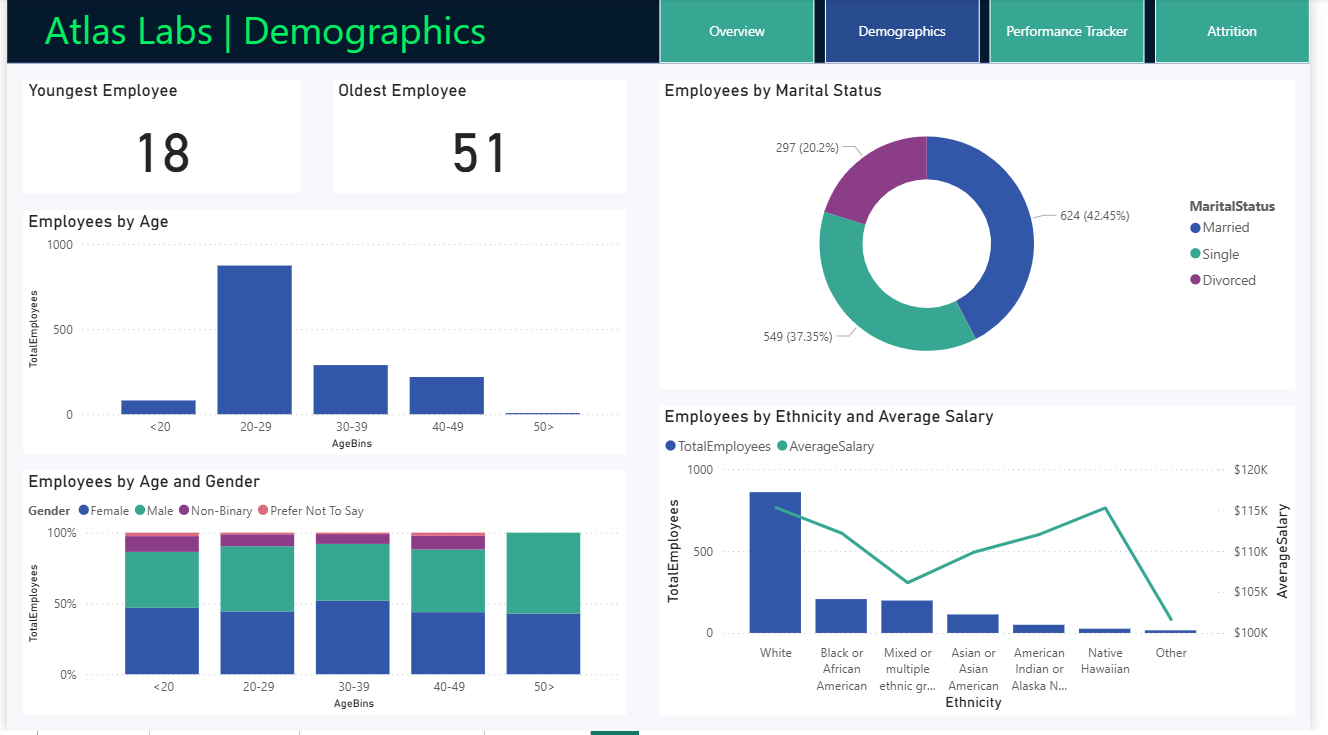

This screenshot's page, from the dashboard's own definition file:
{"tool":"powerbi","page":{"name":"Demographics","canvas":[1280,720],"ordinal":1},"visuals":[{"type":"card","title":"Youngest Employee","fields":{"Values":["Min(DimEmployee.Age)"]},"box":[16,80,272,112],"z":0},{"type":"card","title":"Oldest Employee","fields":{"Values":["Max(DimEmployee.Age)"]},"box":[320,80,288,112],"z":1000},{"type":"columnChart","title":"Employees by Age","fields":{"Category":["DimEmployee.AgeBins"],"Y":["_Measures.TotalEmployees"]},"box":[16,208,592,240],"z":2000},{"type":"hundredPercentStackedColumnChart","title":"Employees by Age and Gender","fields":{"Category":["DimEmployee.AgeBins"],"Series":["DimEmployee.Gender"],"Y":["_Measures.TotalEmployees"]},"box":[16,464,592,240],"z":3000},{"type":"donutChart","title":"Employees by Marital Status","fields":{"Category":["DimEmployee.MaritalStatus"],"Y":["_Measures.TotalEmployees"]},"box":[640,80,624,304],"z":4000},{"type":"lineStackedColumnComboChart","title":"Employees by Ethnicity and Average Salary","fields":{"Category":["DimEmployee.Ethnicity"],"Y":["_Measures.TotalEmployees"],"Y2":["_Measures.AverageSalary"]},"box":[640,400,624,304],"z":5000},{"type":"shape","box":[0,0,1280,64],"z":6000},{"type":"textbox","box":[32,0,624,64],"z":7000},{"type":"pageNavigator","box":[640,0,640,64],"z":8000}]}

Visuals, with their boxes in screenshot pixels (x1, y1, x2, y2), scaled from the page's 1280x720 canvas onto the 1328x735 screenshot:
"Youngest Employee" card: x1=17, y1=82, x2=299, y2=196
"Oldest Employee" card: x1=332, y1=82, x2=631, y2=196
"Employees by Age" columnChart: x1=17, y1=212, x2=631, y2=457
"Employees by Age and Gender" hundredPercentStackedColumnChart: x1=17, y1=474, x2=631, y2=719
"Employees by Marital Status" donutChart: x1=664, y1=82, x2=1311, y2=392
"Employees by Ethnicity and Average Salary" lineStackedColumnComboChart: x1=664, y1=408, x2=1311, y2=719
shape: x1=0, y1=0, x2=1327, y2=65
textbox: x1=33, y1=0, x2=681, y2=65
pageNavigator: x1=664, y1=0, x2=1327, y2=65
